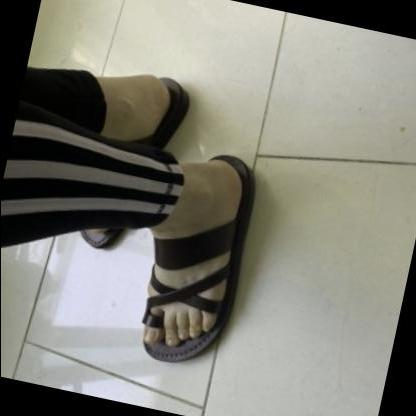no_safety-shoe: (130, 128, 291, 405)
